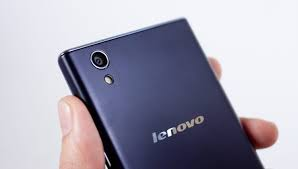lenovo: (57, 12, 262, 169)
